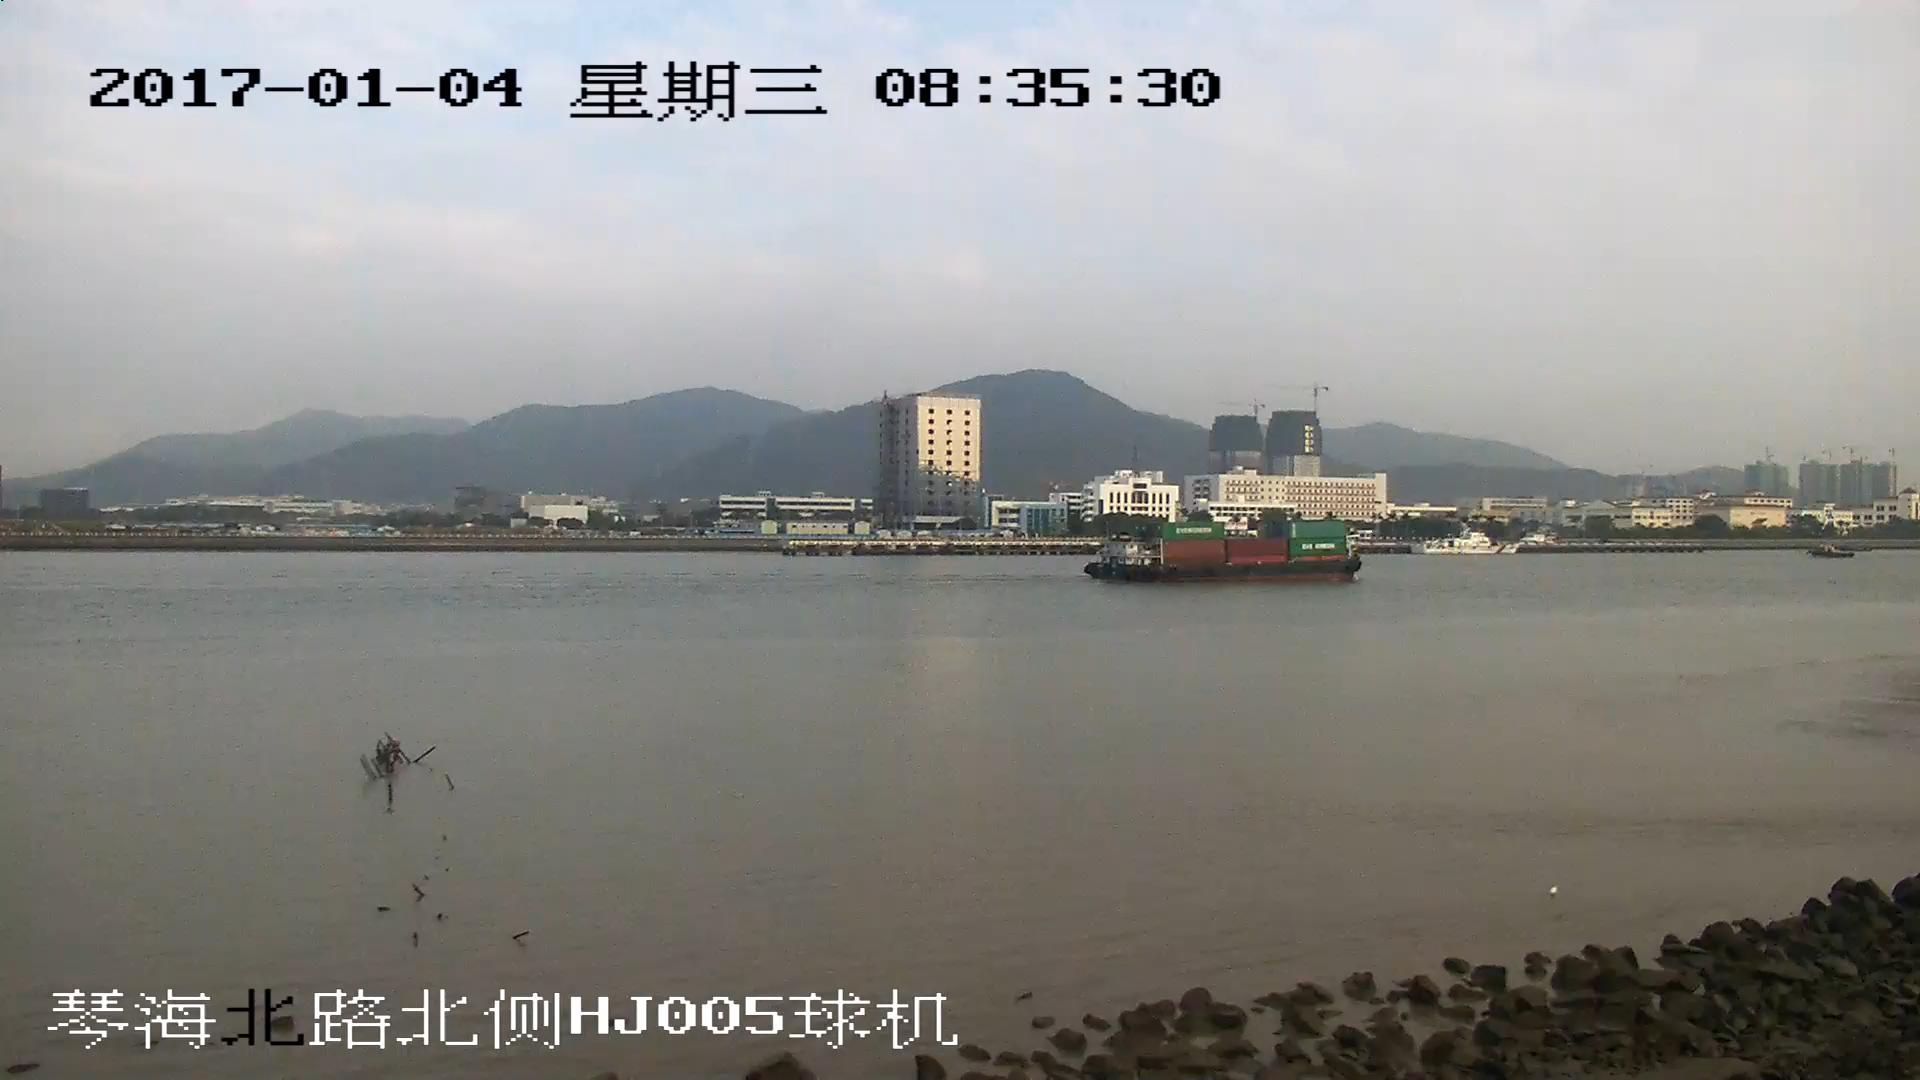Ship: (1088, 518, 1360, 582)
